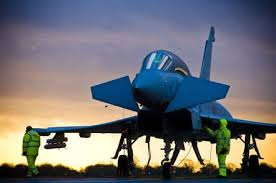fighter: (31, 26, 276, 174)
